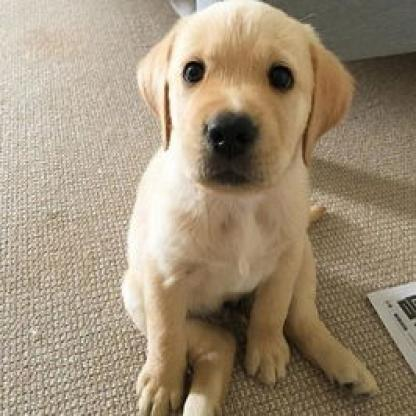dog: (125, 1, 373, 416)
